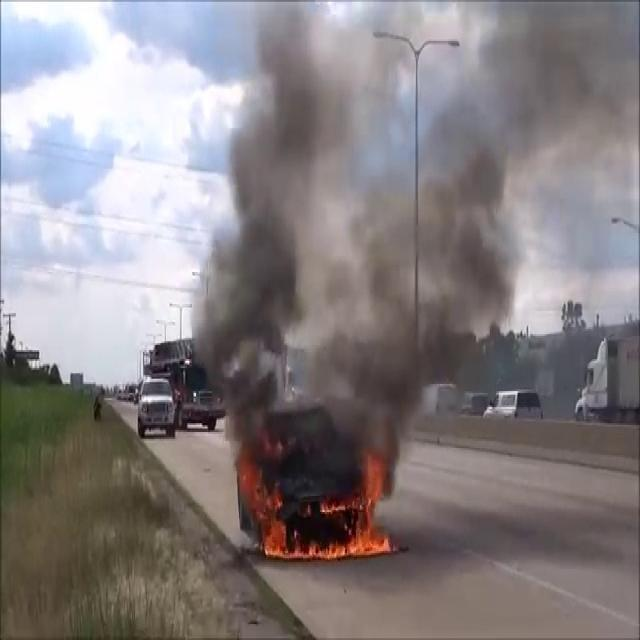Fire: (252, 462, 398, 566)
Smoke: (190, 2, 612, 462)
